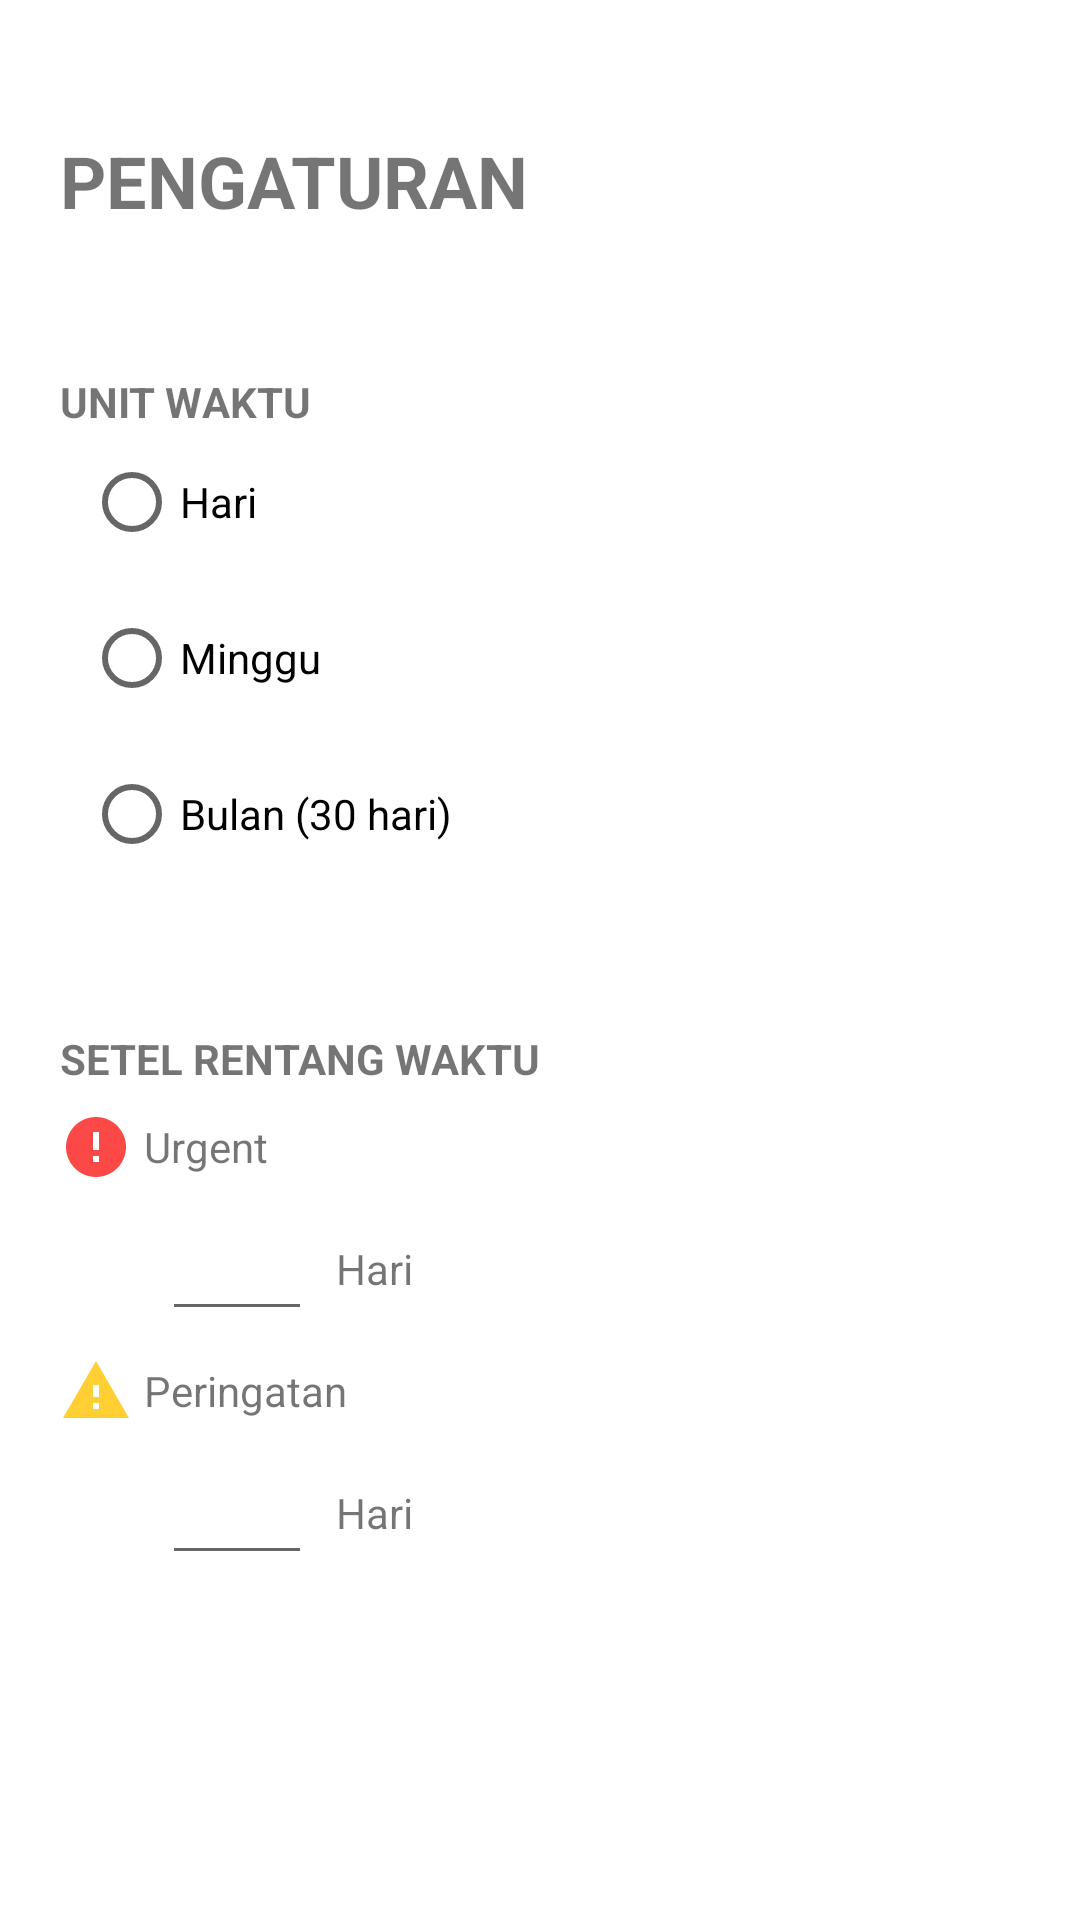

Where icons sit on this 1080px×1920px app screen, as [x1=x1, y1=y1, x2=x2, y2=y2]:
1st priority: [x1=66, y1=1117, x2=126, y2=1177]
2nd priority: [x1=63, y1=1361, x2=129, y2=1418]
